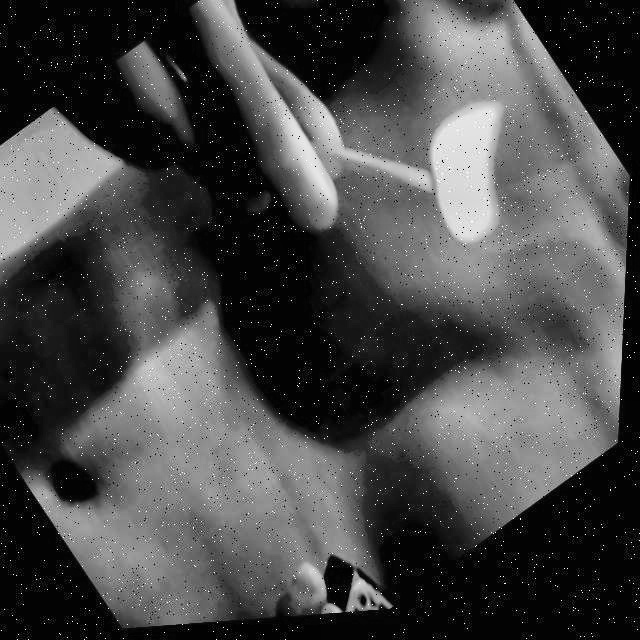Fire: (380, 75, 586, 287)
